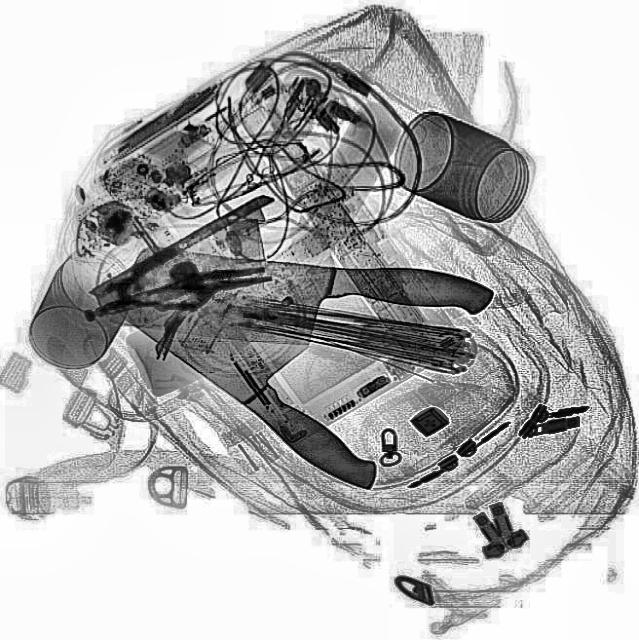Knife: (97, 225, 423, 500), (118, 242, 492, 364)
